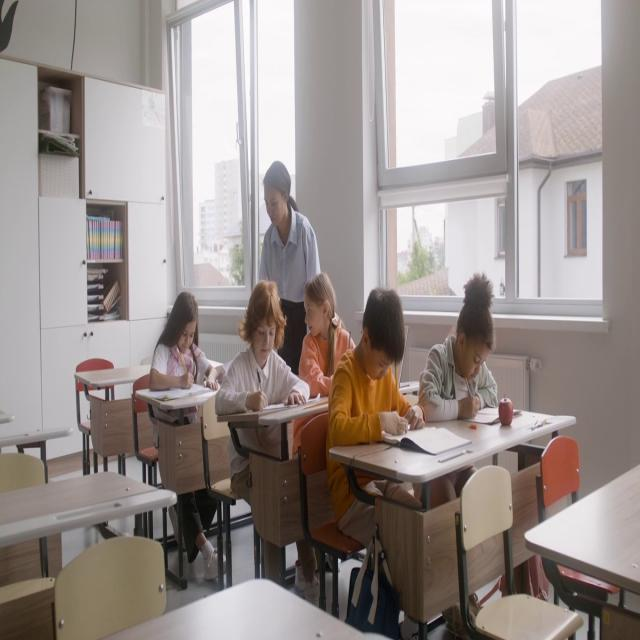turning: (296, 271, 348, 428)
writing: (331, 288, 433, 626), (217, 278, 312, 592), (150, 292, 229, 578), (419, 273, 499, 427)
